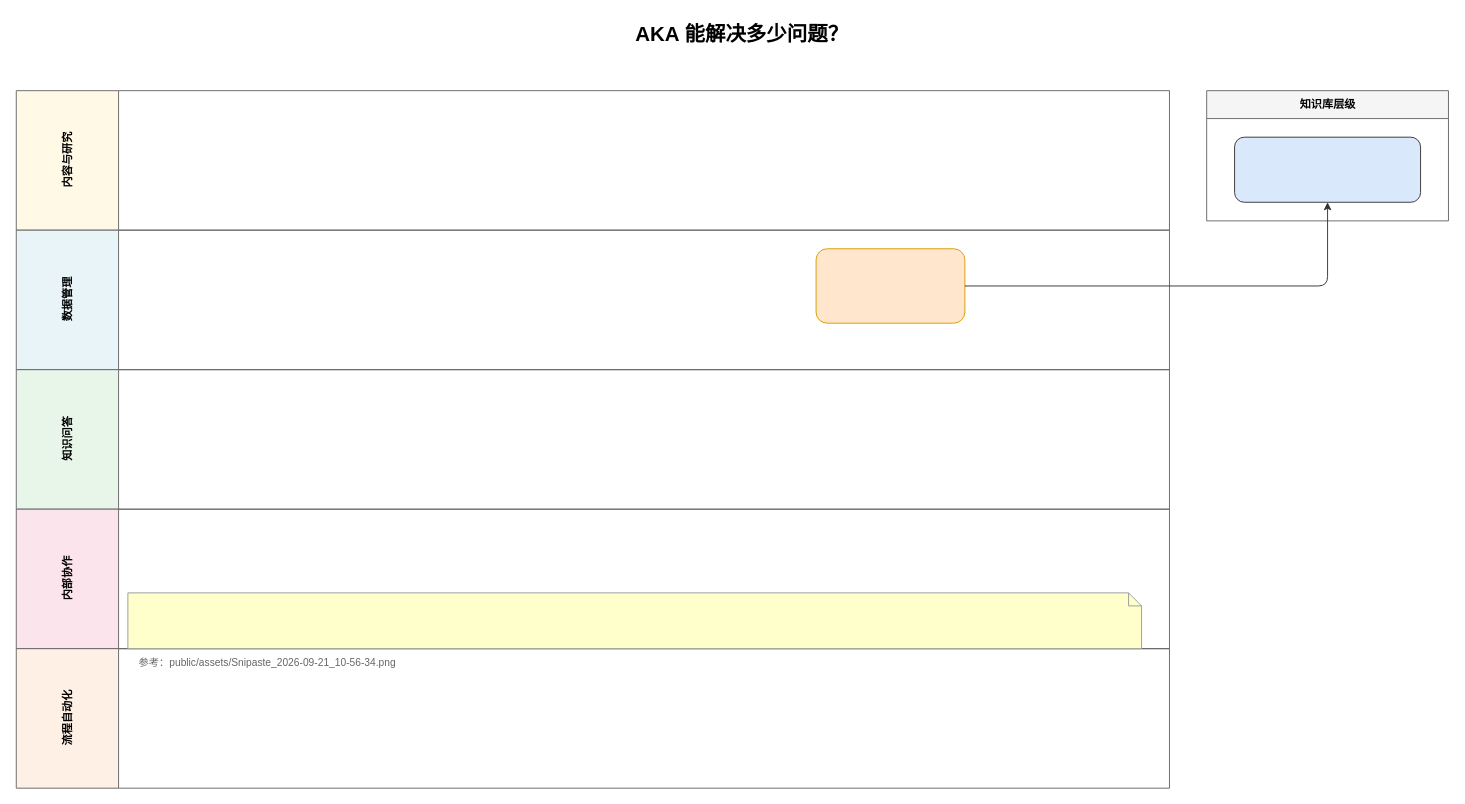
Image size: 1465x804. Some labels were removed from this diagram. The centre of each missing label's shape, as x and y in pixels:
"不是功能越多越好，而是 ROI 算得过来" belongs at point 634,620.
"更复杂的功能：看预算、算成本、算收益" belongs at point 1327,169.
"覆盖大多数常见企业 AI 场景（经验判断：约 80% 常见问题）" belongs at point 890,285.
